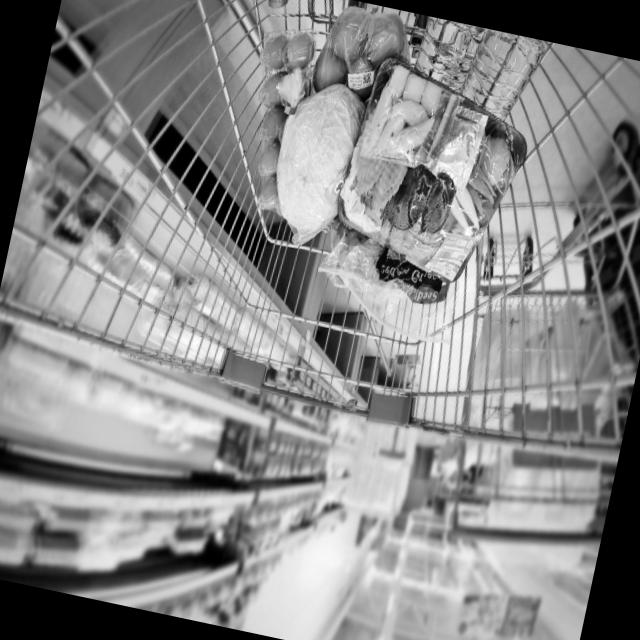bap cai: (262, 71, 383, 244)
nho: (354, 244, 462, 339)
tao: (304, 0, 417, 101)
trung: (226, 20, 334, 214)
